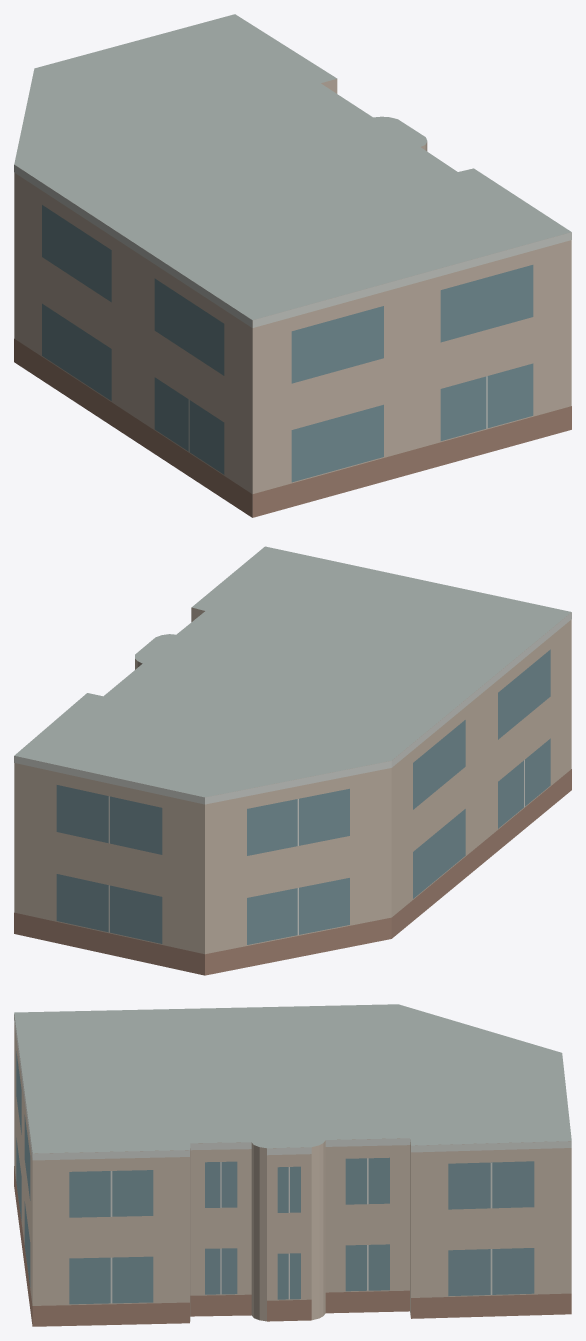
Rendered from survey-upis-32661834.glb.
3 renders of one model, top to bottom at view 1: azimuth 30°, elevation 25°; view 2: azimuth 150°, elevation 25°; view 3: azimuth 270°, elevation 25°, orthographic. The views are drawn at different scales.
Parts seen in each view (by area): view 1: survey-upis-32661834.tmp; view 2: survey-upis-32661834.tmp; view 3: survey-upis-32661834.tmp.
Boxes of the visible parts, left/top/right/bottom form: survey-upis-32661834.tmp: left=14, top=14, right=571, bottom=517; survey-upis-32661834.tmp: left=14, top=546, right=571, bottom=975; survey-upis-32661834.tmp: left=14, top=1004, right=571, bottom=1326.
Bounding box in the file's own units: 11.29 × 6.1 × 17.81.
